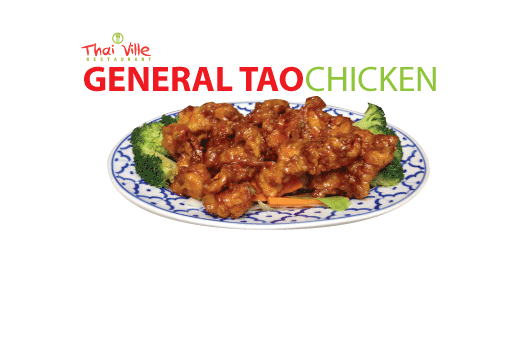curry: (131, 120, 180, 188)
